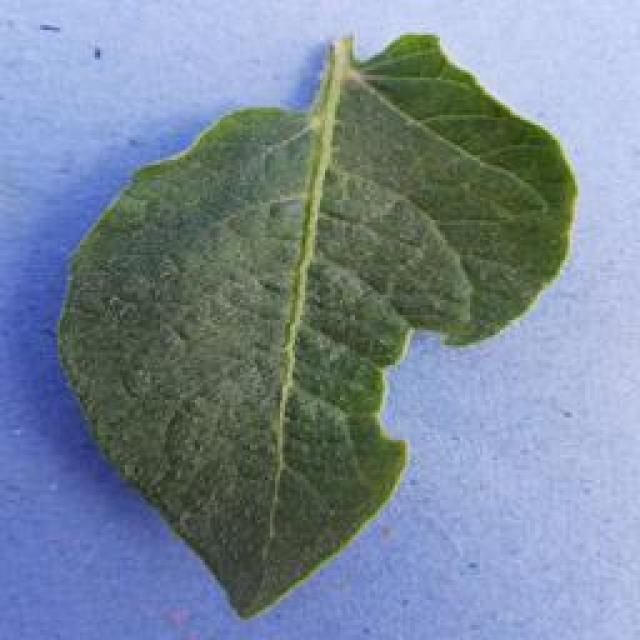Potato_Healthy: (59, 32, 574, 618)
